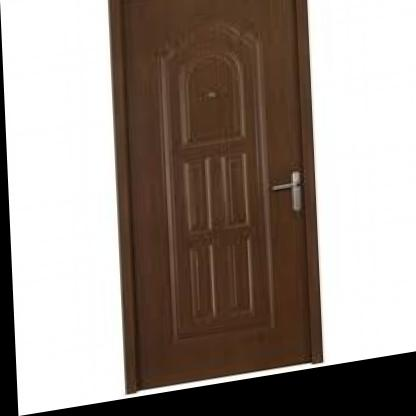door: (105, 0, 319, 399)
